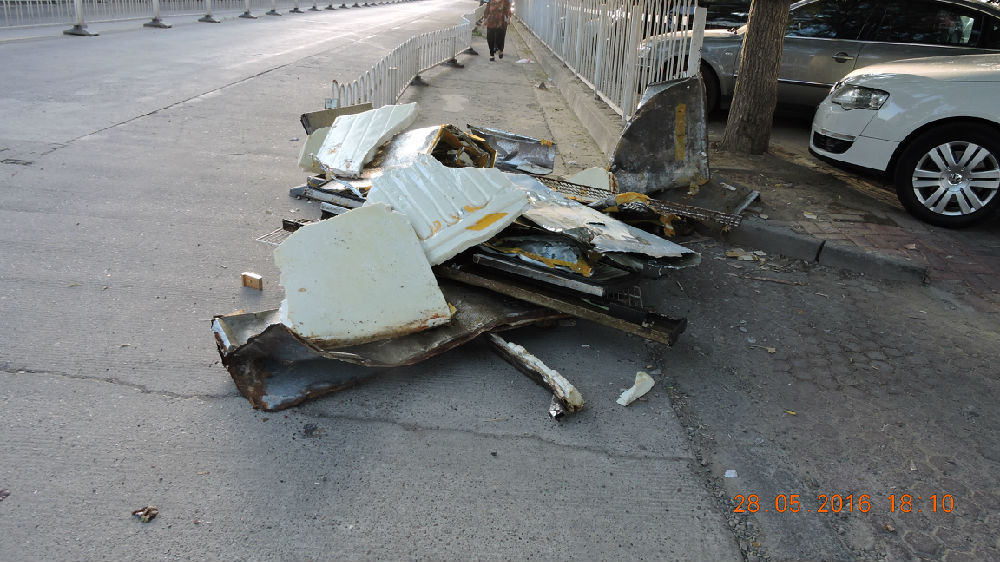garbage: (220, 86, 751, 430)
